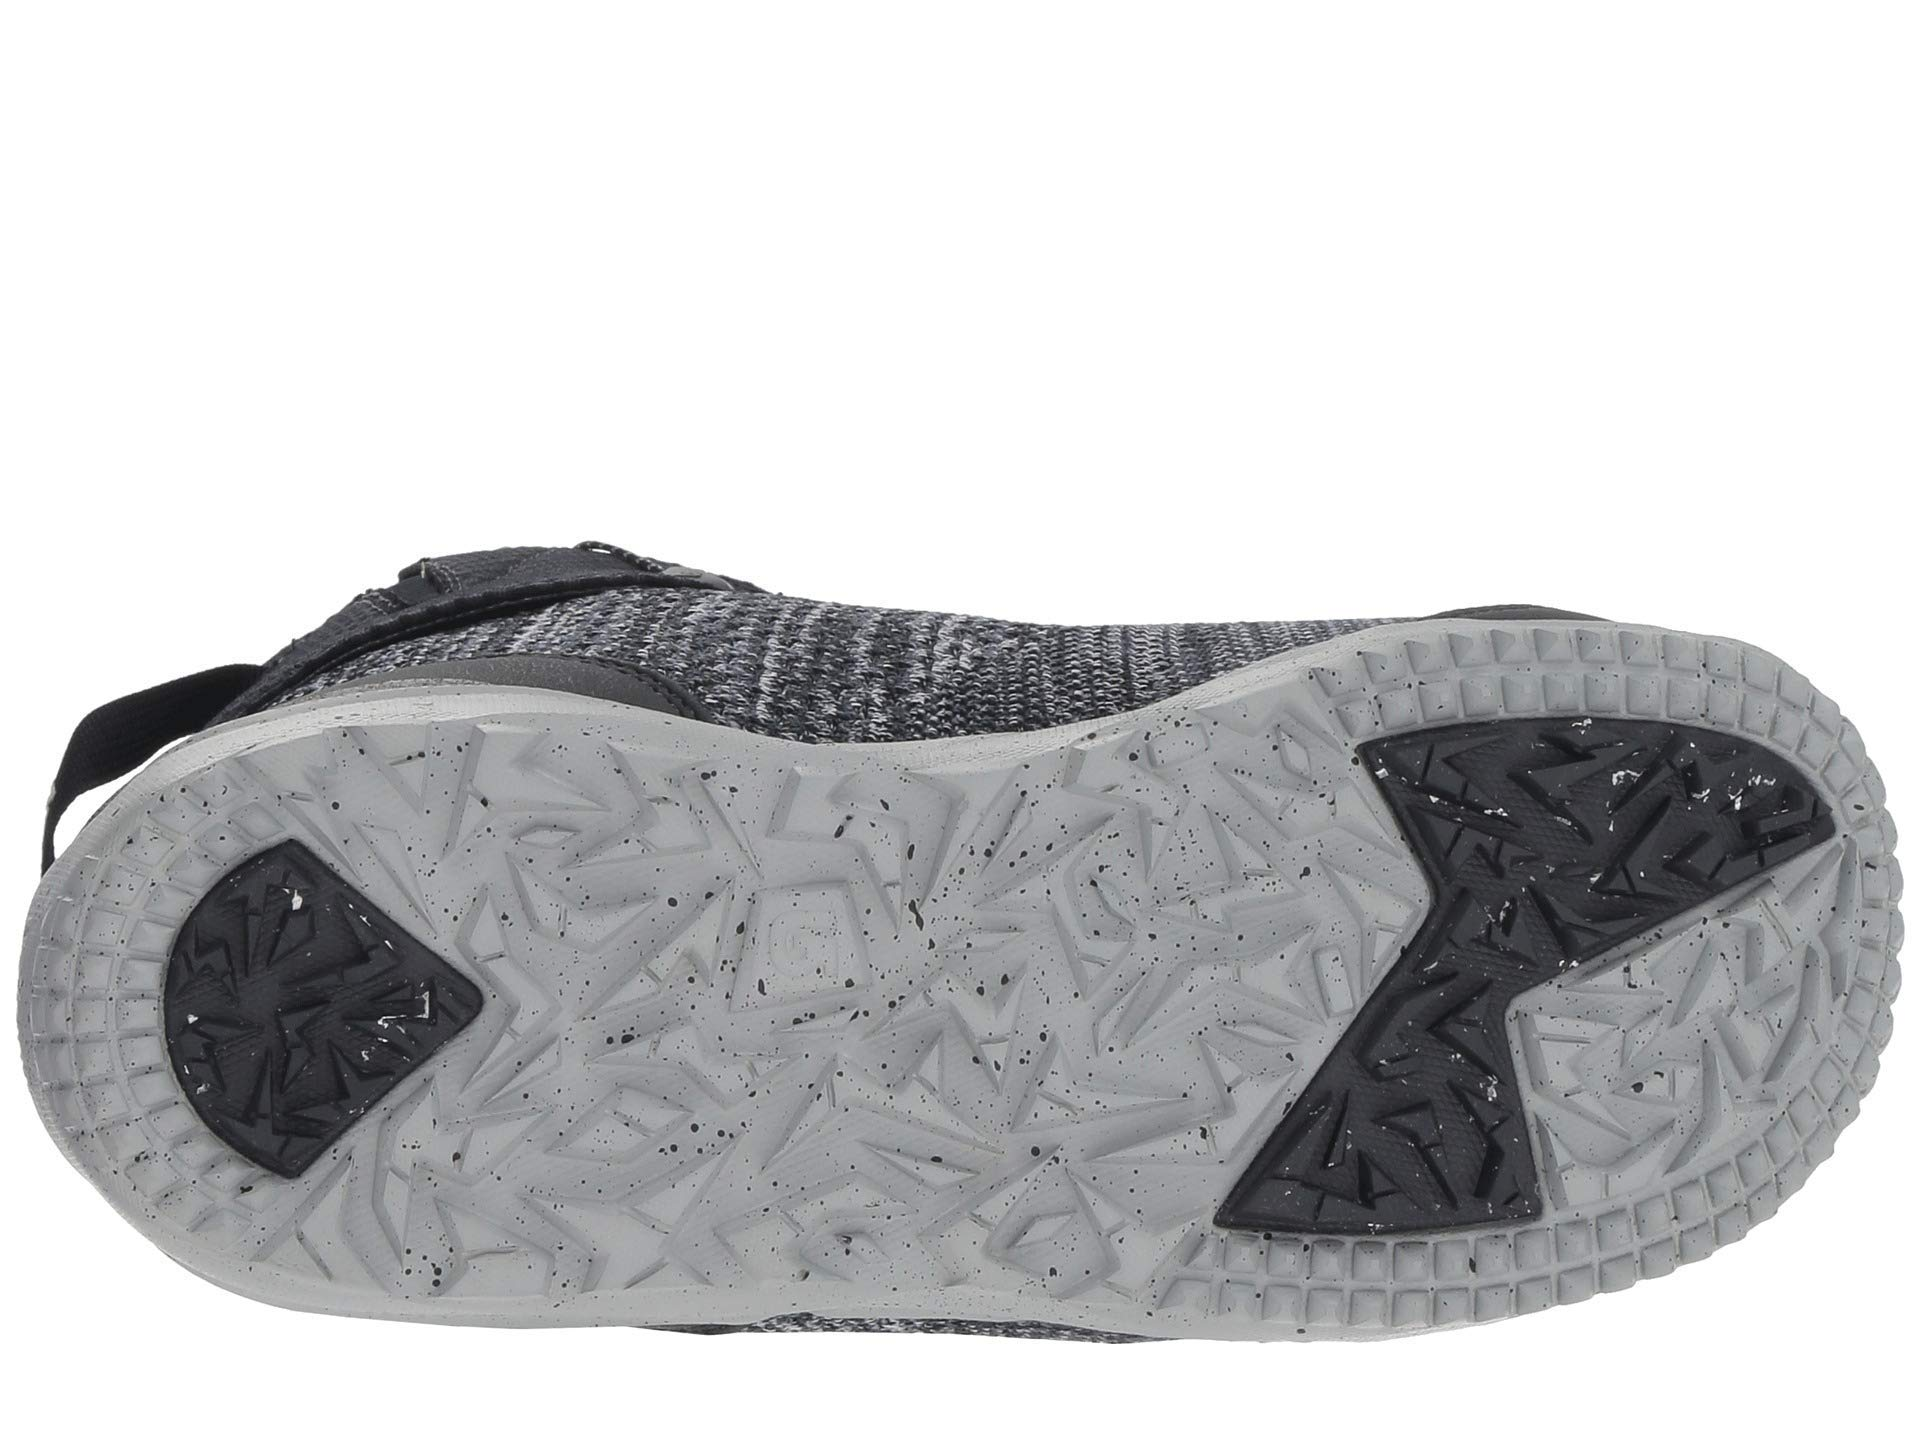chevron: (1158, 796, 1439, 1091), (463, 1023, 736, 1284), (838, 1131, 1085, 1305)
quad: (1158, 796, 1439, 1091), (463, 1023, 736, 1284), (838, 1131, 1085, 1305), (726, 859, 892, 1038)
text: (726, 859, 892, 1038)
triangle: (1158, 796, 1439, 1091), (463, 1023, 736, 1284), (838, 1131, 1085, 1305)
